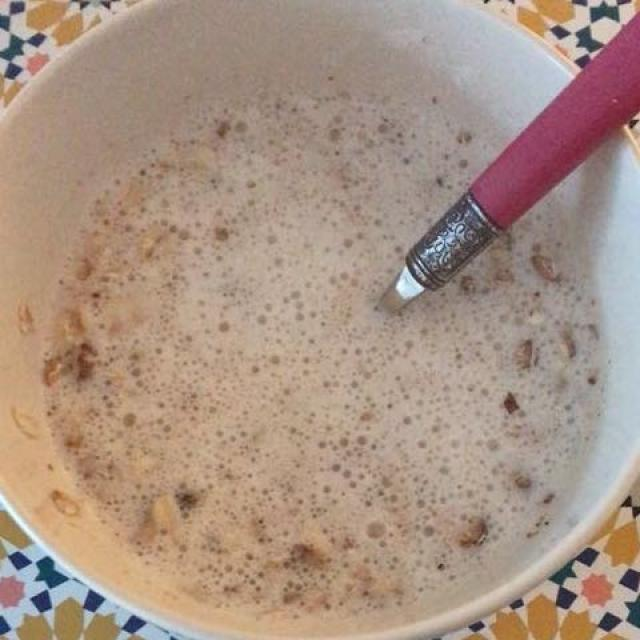muesli: (46, 54, 587, 611)
